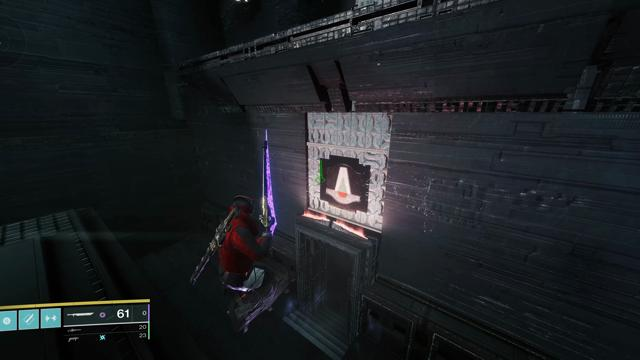enter: (325, 163, 365, 206)
